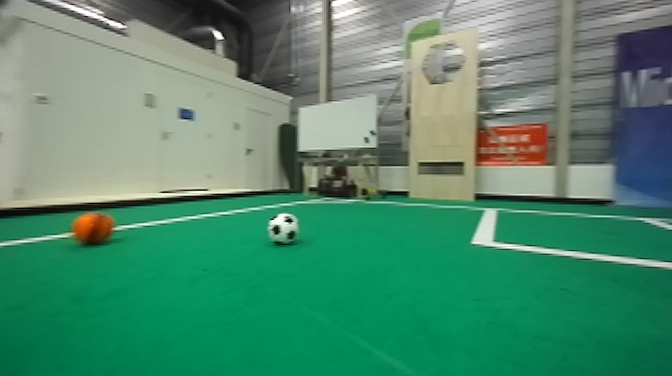ball: (70, 210, 119, 249), (264, 211, 301, 248)
